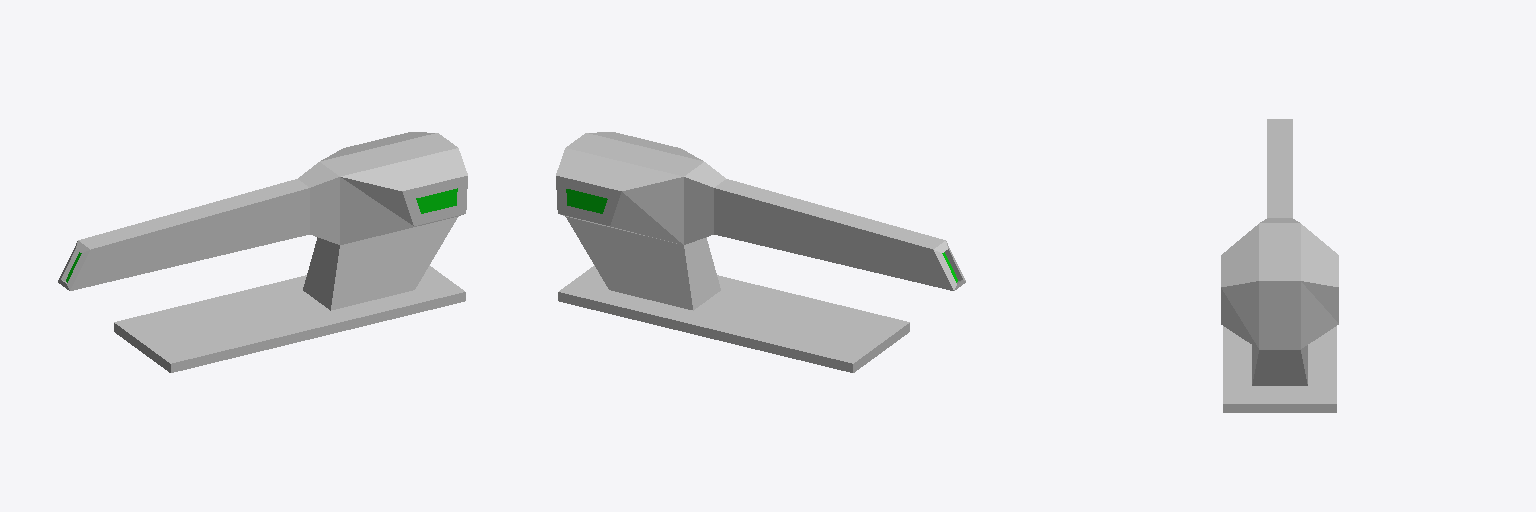
The model's file is pulselaser.obj.
3 views of the same model, side by side, from view 1: azimuth 30°, elevation 25°; view 2: azimuth 150°, elevation 25°; view 3: azimuth 270°, elevation 25° (orthographic).
Visible parts, largest first — view 1: Cube; view 2: Cube; view 3: Cube.
Part boxes in pixels (bbox=[...]): Cube: bbox=[58, 132, 467, 372]; Cube: bbox=[556, 132, 965, 372]; Cube: bbox=[1221, 119, 1338, 412].
Bounding box in the file's own units: 3.13 × 1.07 × 0.8362.